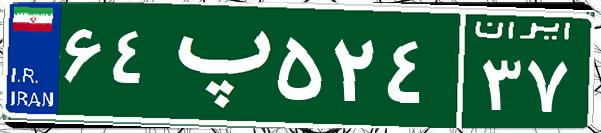2: (330, 28, 385, 110)
3: (475, 38, 525, 113)
4: (385, 28, 445, 110), (110, 28, 158, 105)
5: (273, 28, 330, 110)
6: (57, 26, 110, 107)
7: (525, 38, 570, 115)
پ: (158, 15, 273, 115)
